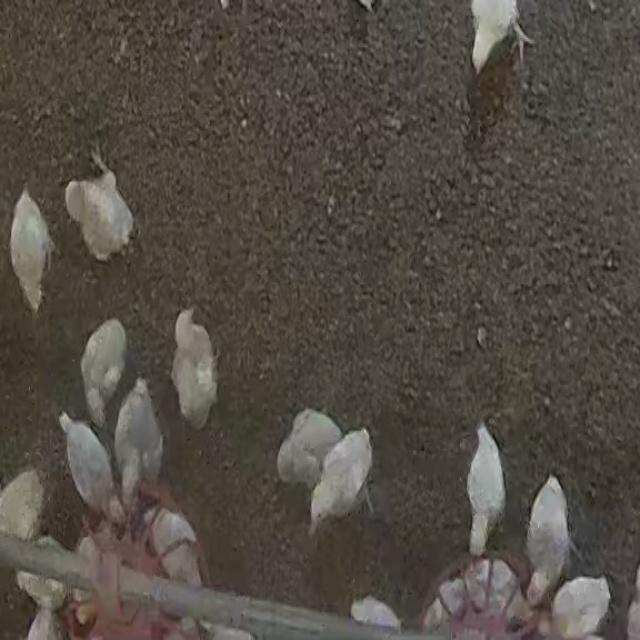chicken: (65, 144, 133, 263), (308, 427, 374, 537), (139, 502, 207, 606), (113, 381, 164, 518), (58, 412, 116, 526), (9, 186, 59, 316), (170, 304, 218, 431), (525, 476, 571, 606), (274, 409, 344, 493), (471, 558, 546, 633), (79, 319, 129, 431), (466, 424, 506, 558), (469, 1, 534, 81), (548, 574, 614, 640), (0, 468, 45, 546), (419, 574, 464, 640), (344, 597, 408, 640)
